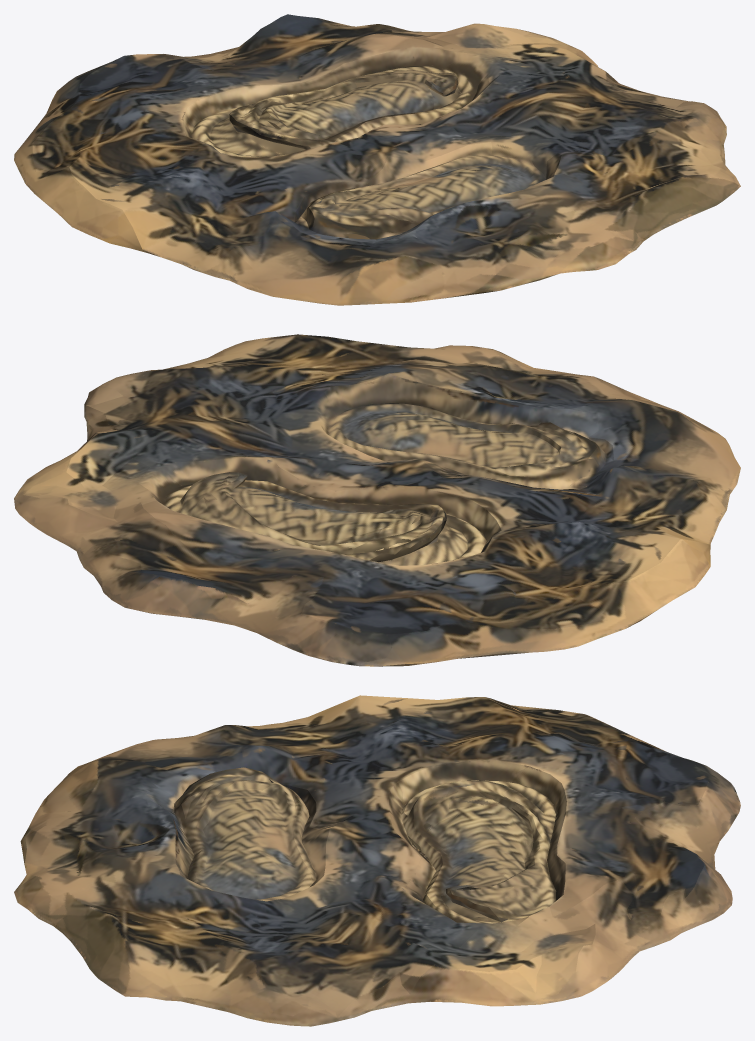
Rendered from fire-trace_glb.glb.
3 renders of one model, top to bottom at view 1: azimuth 30°, elevation 25°; view 2: azimuth 150°, elevation 25°; view 3: azimuth 270°, elevation 25°, orthographic. The views are drawn at different scales.
Visible parts, largest first — view 1: geometry_0; view 2: geometry_0; view 3: geometry_0.
Part boxes in pixels (x1,y1,x2,y2): geometry_0: (14, 14, 740, 305); geometry_0: (14, 334, 740, 666); geometry_0: (14, 695, 740, 1026).
Bounding box in the file's own units: 0.9992 × 0.0755 × 0.9488.
1 material, 1 textured.
